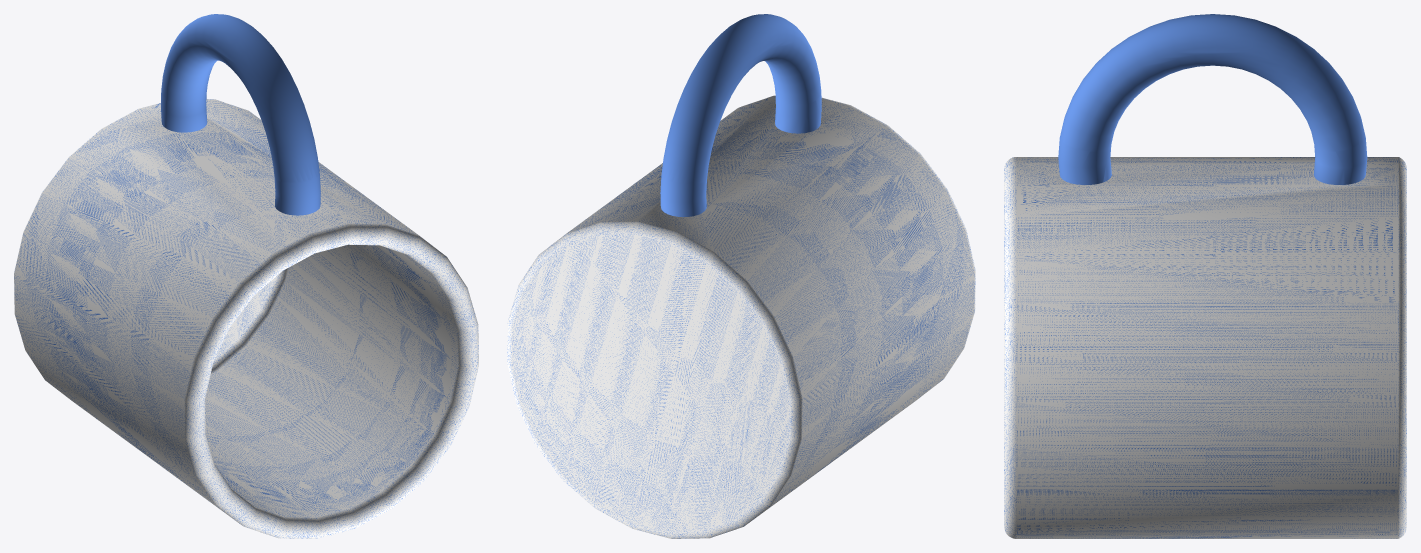
Rendered from model_align.obj.
The picture shows the model from 3 angles, left to right: view 1: azimuth 30°, elevation 25°; view 2: azimuth 150°, elevation 25°; view 3: azimuth 270°, elevation 25°; orthographic projection. The views are drawn at different scales.
Visible parts, largest first — view 1: mesh1_mesh1-geometry; view 2: mesh1_mesh1-geometry; view 3: mesh1_mesh1-geometry.
Part boxes in pixels (x1,y1,x2,y2): mesh1_mesh1-geometry: (14,14,478,538); mesh1_mesh1-geometry: (507,14,975,538); mesh1_mesh1-geometry: (1004,14,1406,538).
Size of the model in its own units: 0.0755 by 0.11 by 0.0801.
